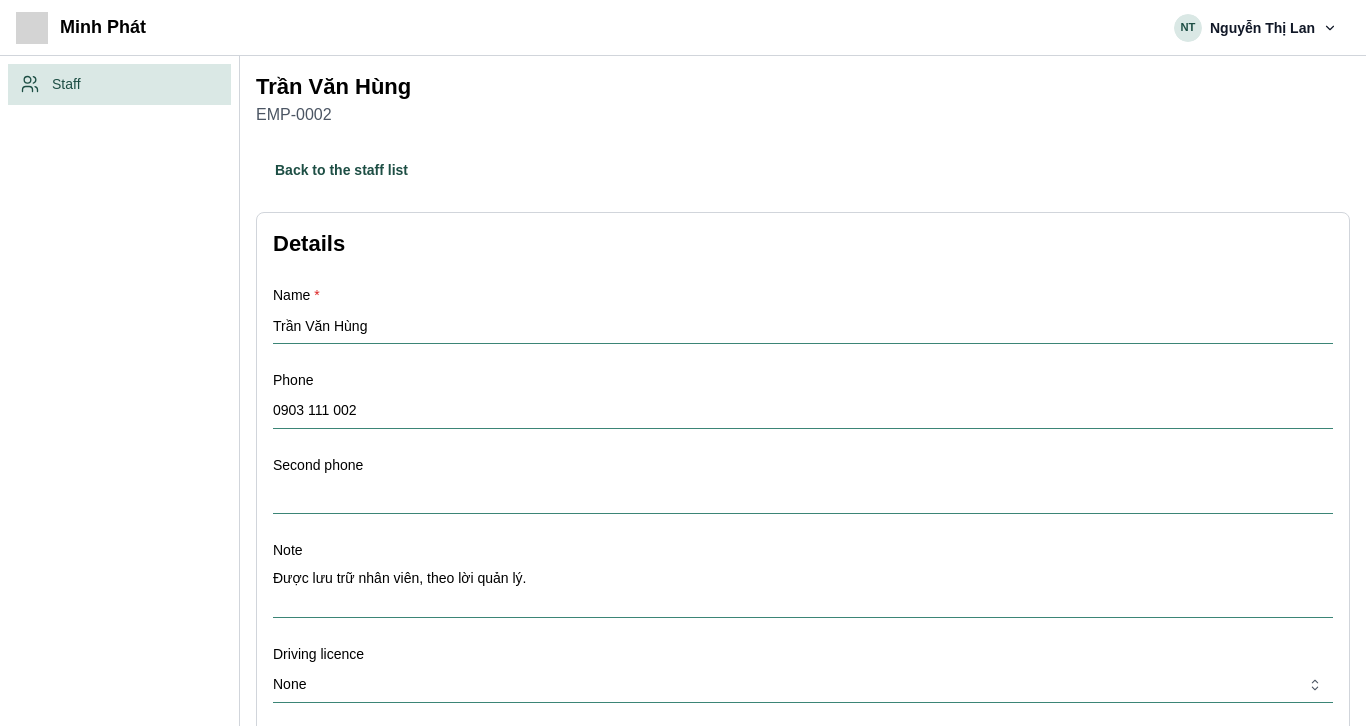
Test case: a person’s page › A person’s page shows their details, their note, how they sign in and whether they can yet; someone allowed changes their name, phone and note there
Check: the heading "Trần Văn Hùng" is shown, box [256,72,411,103]
Check: the field labelled "Phone" holds "0903 111 002", box [273,393,1333,429]
Step 1. Replace the text in the field labelled "Name *" with "Trần Hùng" → (803, 326), box [273,308,1333,344]
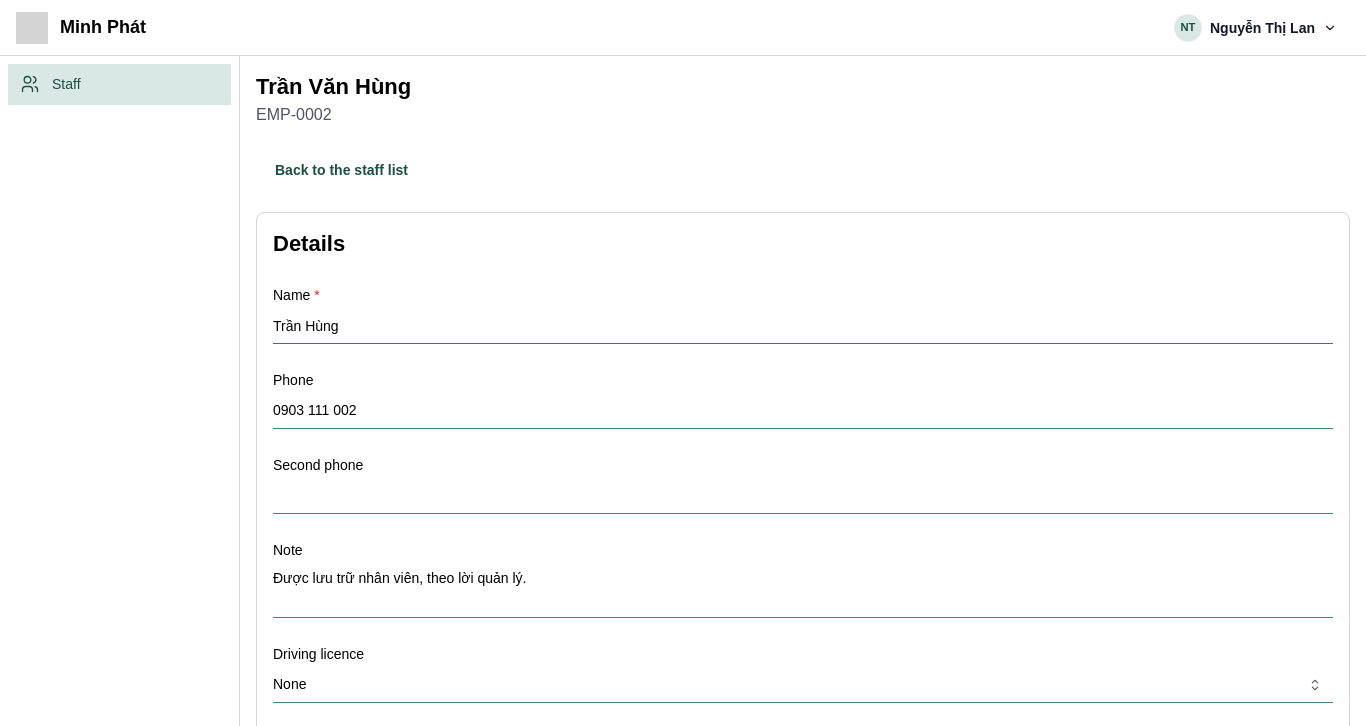
Step 2. Clear the field labelled "Phone" → (803, 411), box [273,393,1333,429]
(page scrolled)
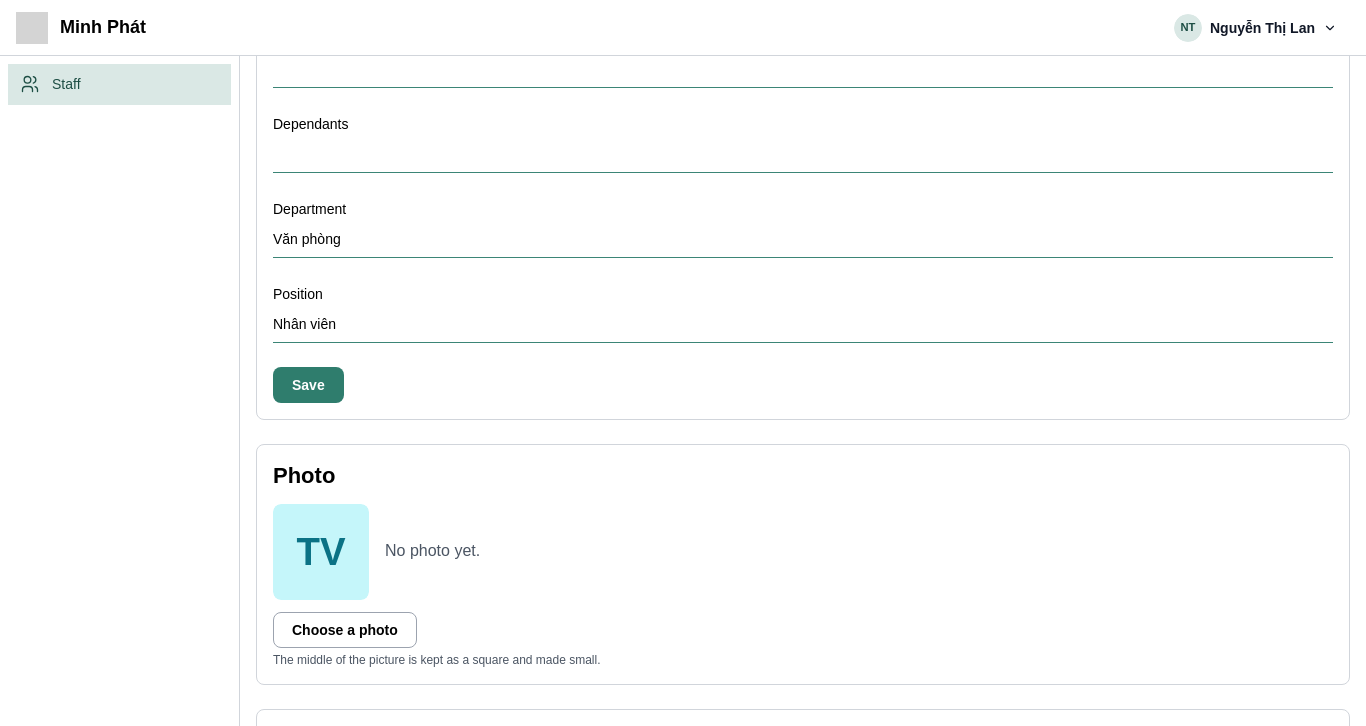
Step 3. Click the button "Save" → click(308, 385), box [273,367,344,403]
(page scrolled)
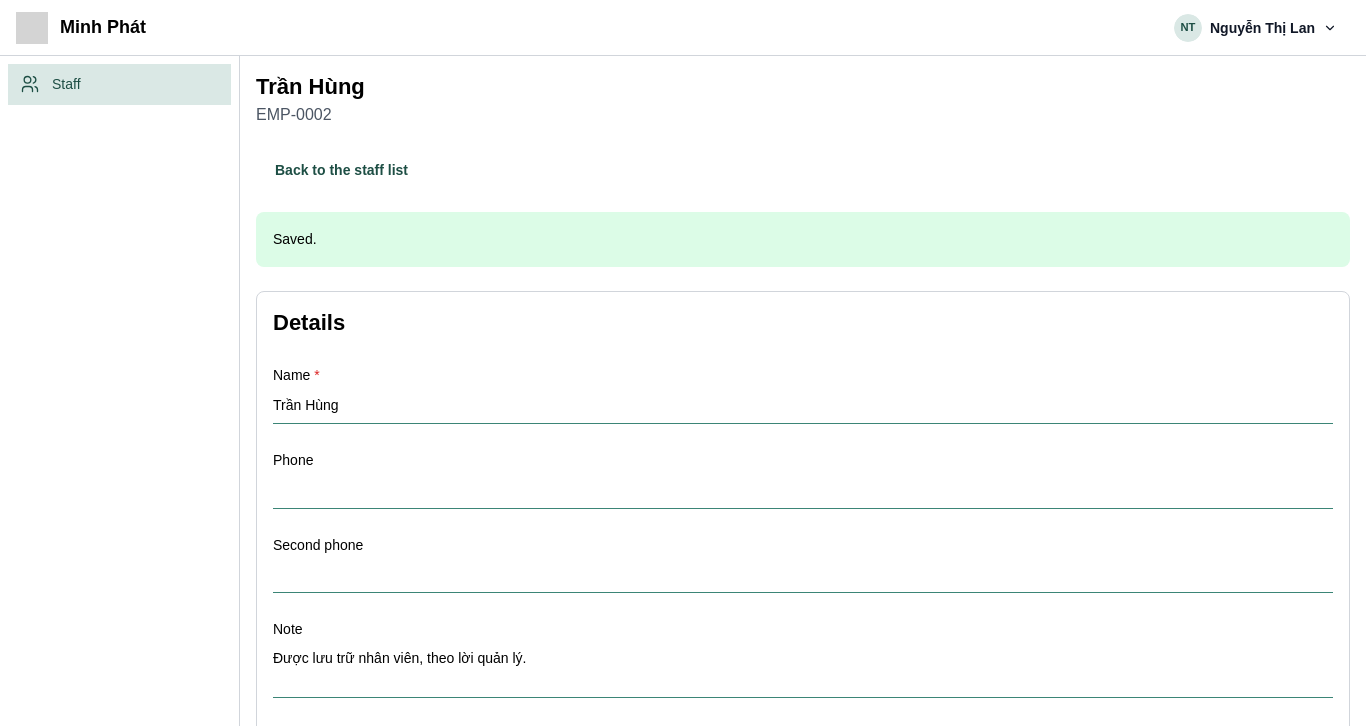
Check: the text "Saved." is shown, box [273,231,317,247]
Check: the heading "Trần Hùng" is shown, box [256,72,365,103]
